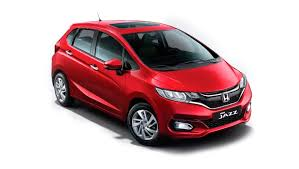Honda: (51, 16, 252, 146)
